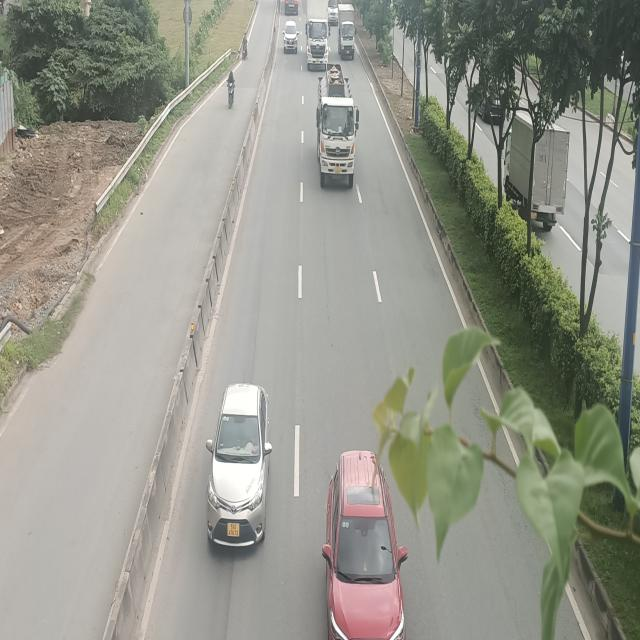car: (322, 452, 408, 640), (204, 382, 271, 545), (283, 23, 298, 55)
container: (318, 60, 361, 186)
truck: (306, 0, 330, 68), (338, 2, 356, 59)
